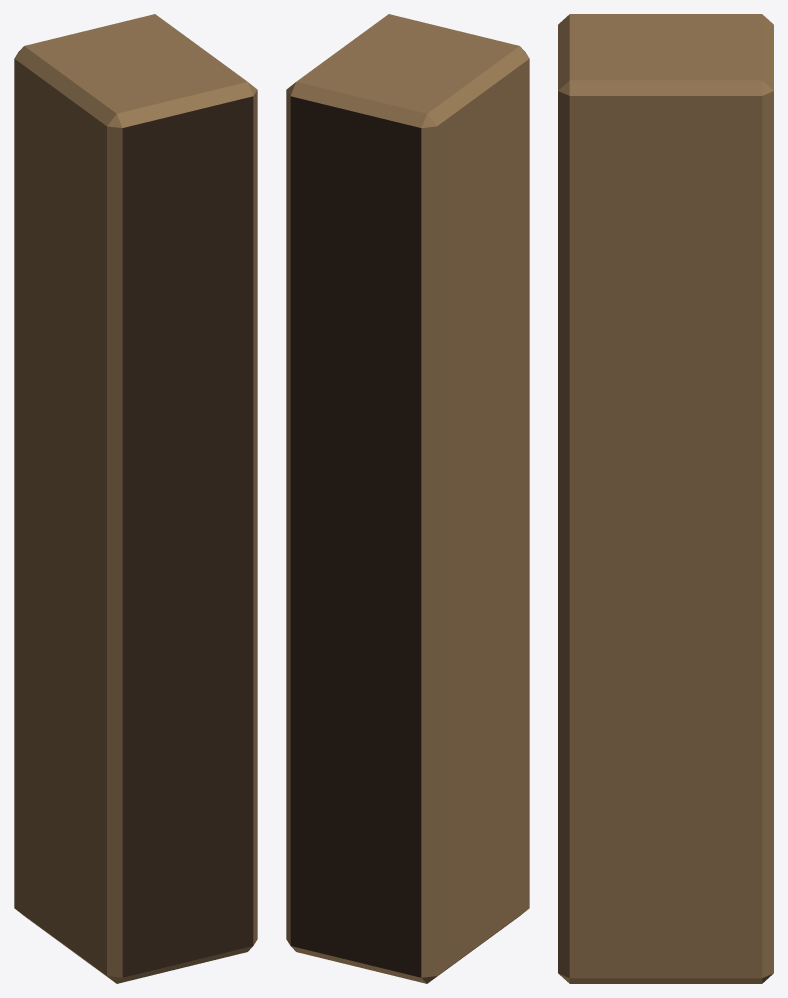
3 renders of one model, left to right at view 1: azimuth 30°, elevation 25°; view 2: azimuth 150°, elevation 25°; view 3: azimuth 270°, elevation 25°, orthographic. The views are drawn at different scales.
Parts seen in each view (by area): view 1: Glyph; view 2: Glyph; view 3: Glyph.
Part boxes in pixels (x1=…): Glyph: x1=14, y1=14, x2=257, y2=983; Glyph: x1=286, y1=14, x2=529, y2=983; Glyph: x1=558, y1=14, x2=773, y2=983.
Size of the model in its own units: 0.092 by 0.508 by 0.11.
